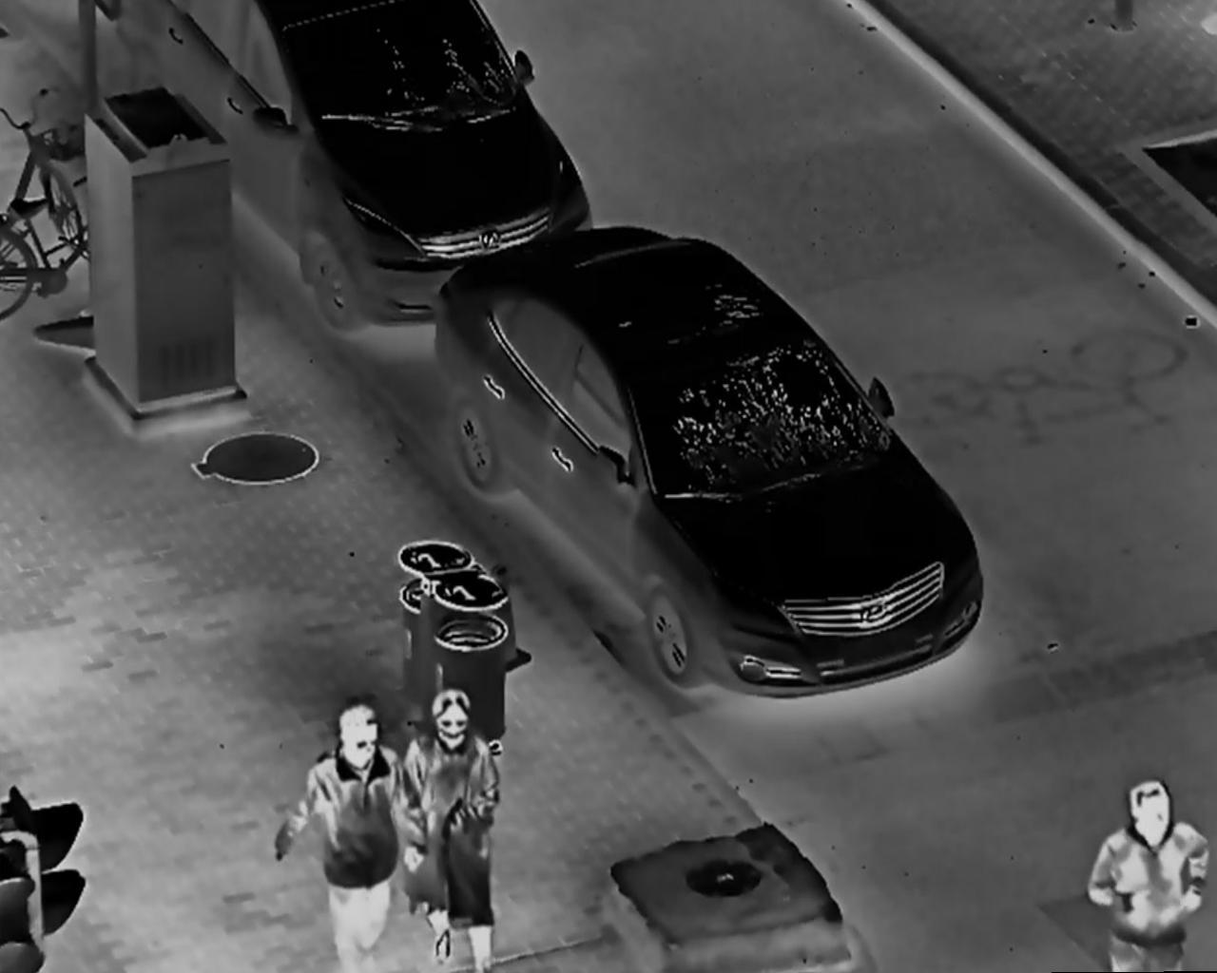person: (275, 701, 431, 973), (397, 688, 503, 973), (1084, 775, 1211, 973)
